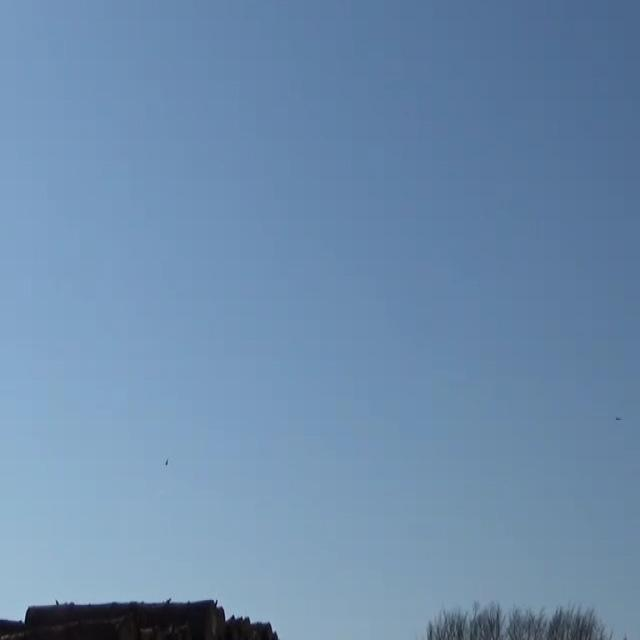bird: (610, 412, 625, 428), (161, 456, 171, 469)
